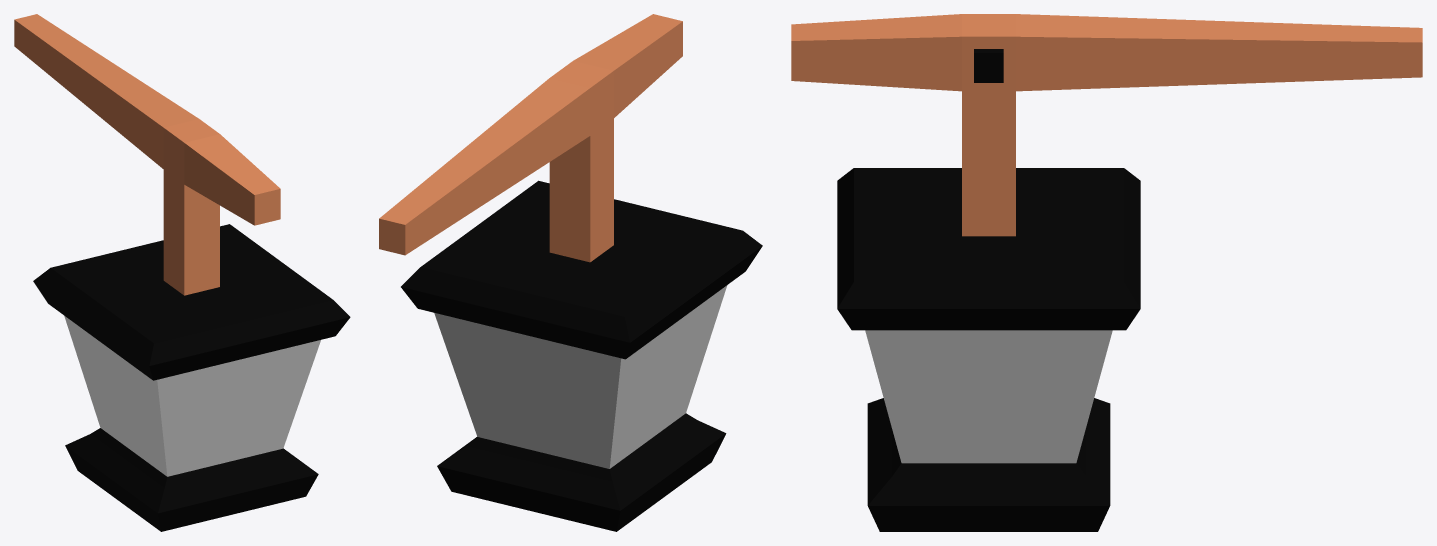
Rendered from Lantern.fbx.
The picture shows the model from 3 angles, left to right: view 1: azimuth 30°, elevation 25°; view 2: azimuth 150°, elevation 25°; view 3: azimuth 270°, elevation 25°; orthographic projection. The views are drawn at different scales.
Parts seen in each view (by area): view 1: Cube; view 2: Cube; view 3: Cube.
Part boxes in pixels (x1,y1,x2,y2): Cube: [14, 14, 350, 531]; Cube: [379, 14, 762, 531]; Cube: [791, 14, 1422, 531].
Bounding box in the file's own units: 200 × 335 × 416.
